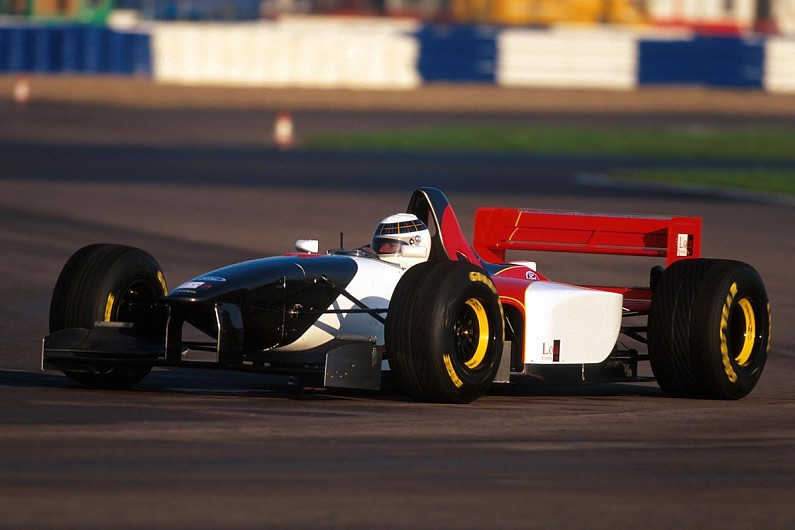f1_car: (37, 175, 786, 416)
